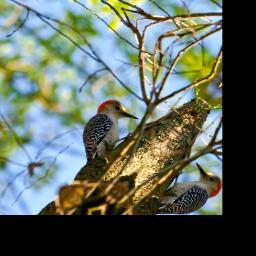Woodpecker: (49, 85, 152, 178)
